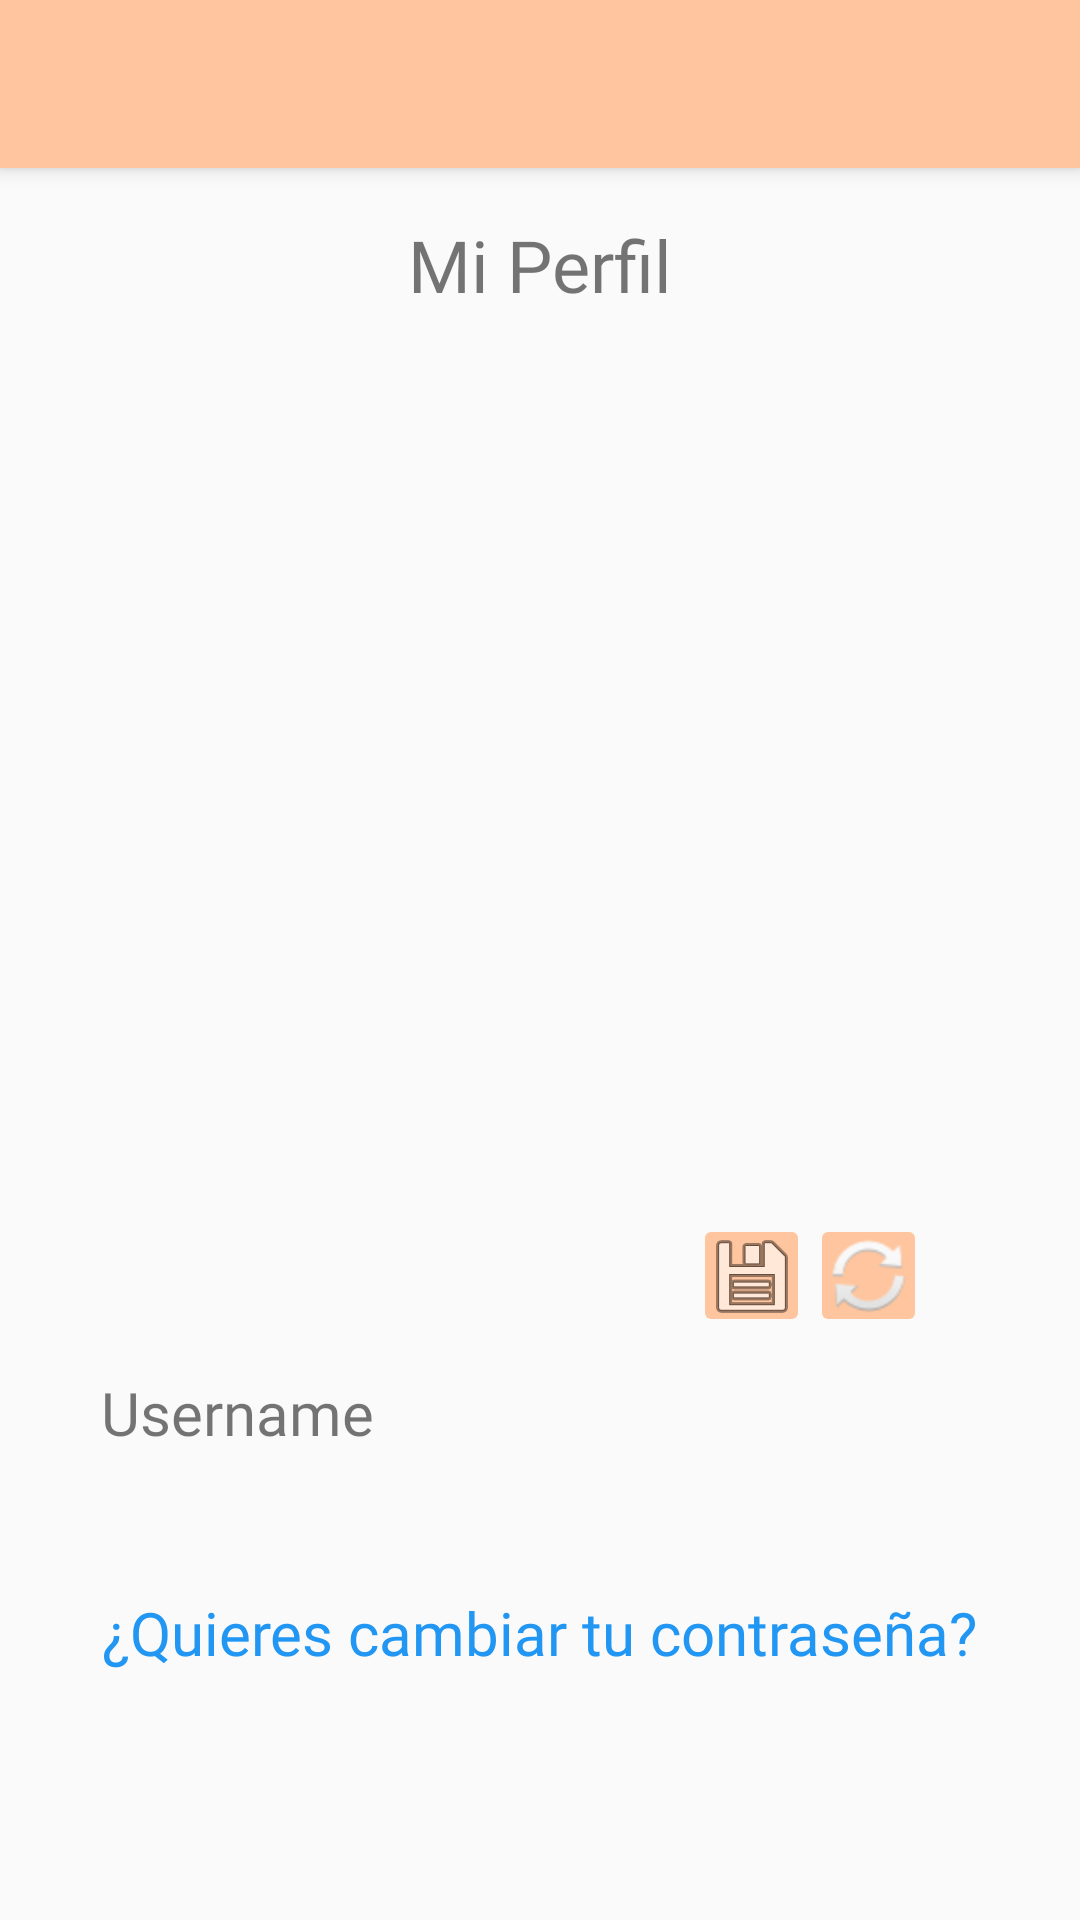

Icon click points for this 1080px×1920px phone screenshot, format [x,y]:
popup sync: [868,1275]
save: [751,1275]
